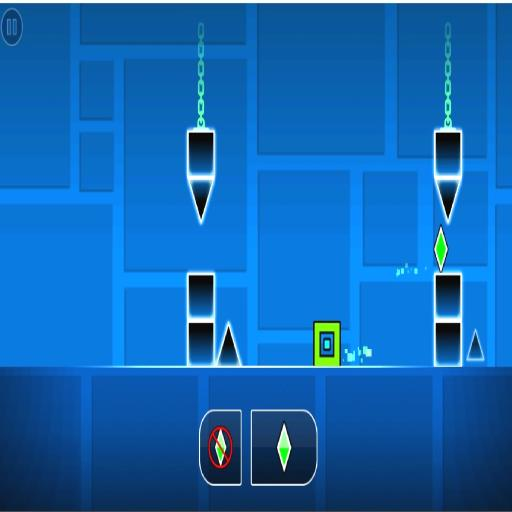block: (432, 268, 464, 371), (184, 272, 216, 370), (432, 126, 464, 180), (185, 129, 216, 177)
player: (312, 320, 343, 372)
spike: (217, 324, 241, 365), (438, 180, 460, 222), (190, 181, 212, 223), (467, 330, 484, 359)
